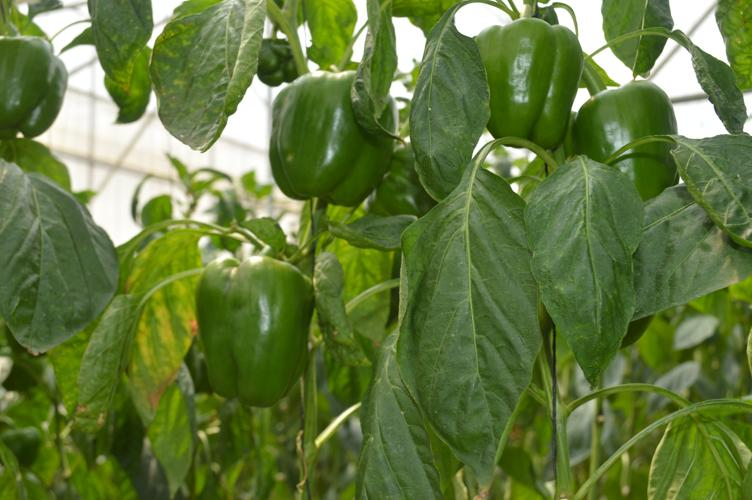BellPepper: (193, 259, 311, 397), (263, 73, 393, 198), (466, 19, 576, 147), (585, 82, 677, 190), (2, 36, 66, 139)
